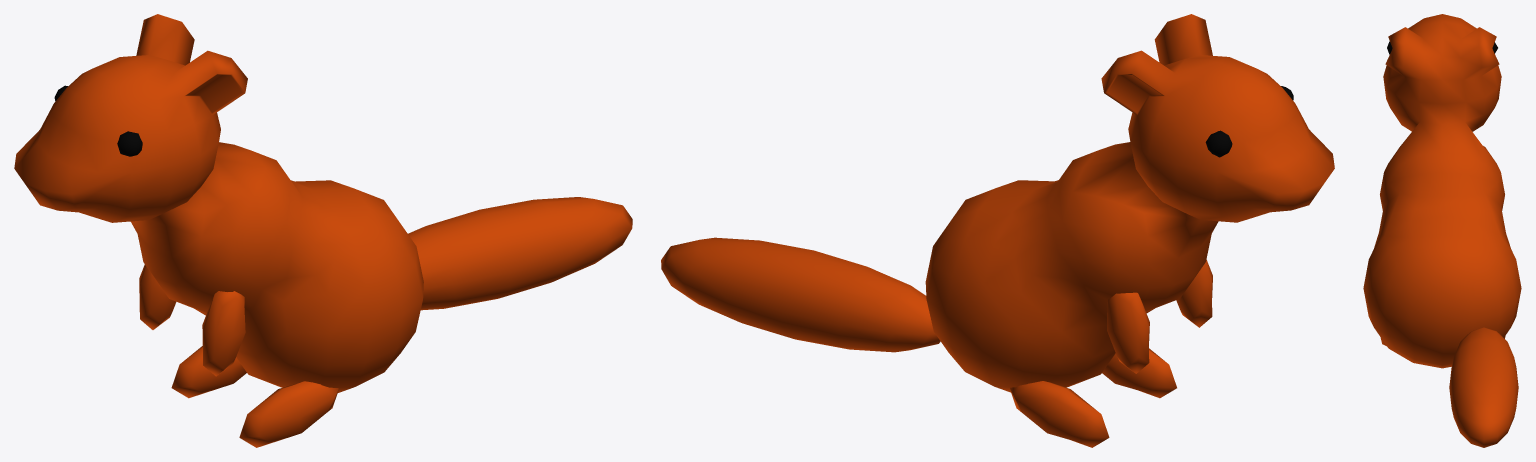
Rendered from M_squir.FBX.
The picture shows the model from 3 angles, left to right: view 1: azimuth 30°, elevation 25°; view 2: azimuth 150°, elevation 25°; view 3: azimuth 270°, elevation 25°; orthographic projection. The views are drawn at different scales.
Visible parts, largest first — view 1: Box017, Box027, Box026, Box024, Box025, Box023; view 2: Box017, Box027, Box025, Box023, Box026, Box024; view 3: Box017, Box027.
Boxes of the visible parts, <box> form: Box017: <box>14,14,423,392</box>; Box027: <box>408,197,632,310</box>; Box026: <box>239,381,338,447</box>; Box024: <box>202,291,245,376</box>; Box025: <box>171,346,246,398</box>; Box023: <box>139,264,176,329</box>; Box017: <box>925,14,1334,392</box>; Box027: <box>661,237,940,352</box>; Box025: <box>1009,381,1109,447</box>; Box023: <box>1107,292,1149,373</box>; Box026: <box>1102,348,1176,398</box>; Box024: <box>1176,259,1212,327</box>; Box017: <box>1363,14,1521,368</box>; Box027: <box>1449,327,1518,447</box>.
Bounding box in the file's own units: 120 × 72.54 × 35.04.
